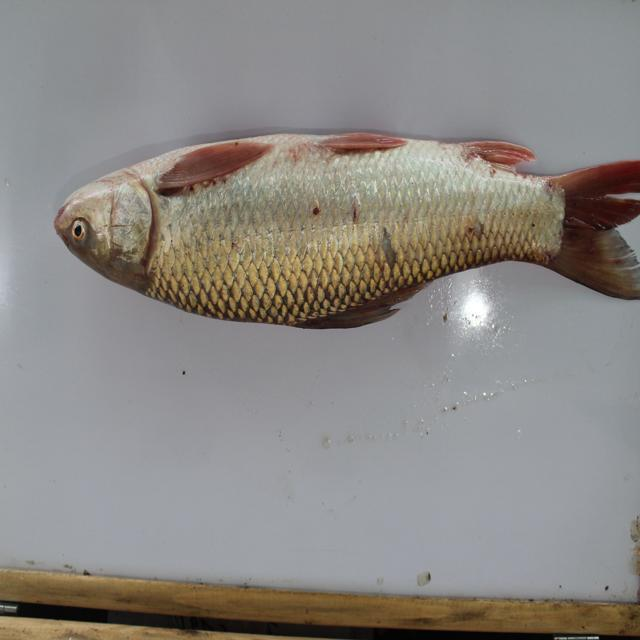Mori: (53, 102, 640, 342)
